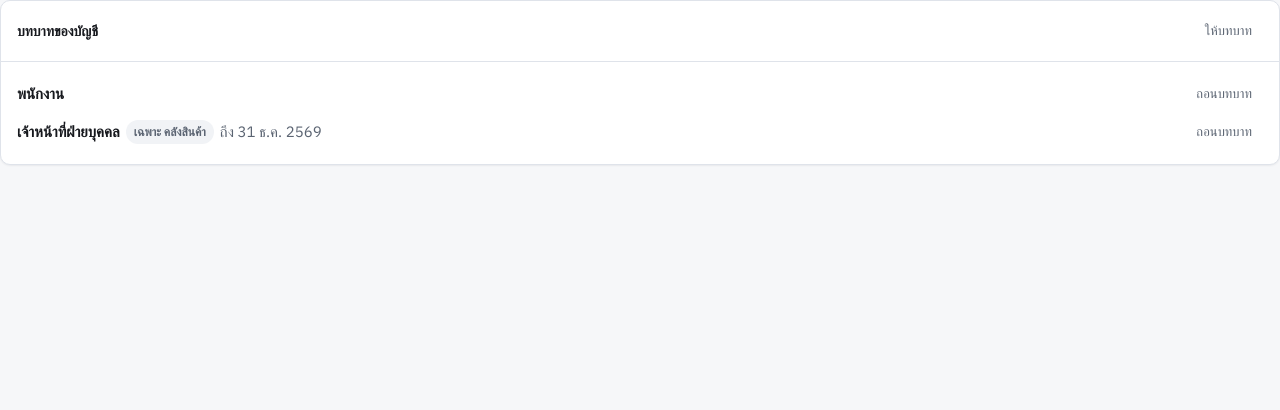
Scenario: Account roles on the employee page (CW-079) › gives payroll officer, warning that it needs two-factor sign-in, and offers only roles the caller holds
This screenshot has width=1280, height=410.
Click the button "ให้บทบาท": (1228, 31) [1194,15,1263,47]
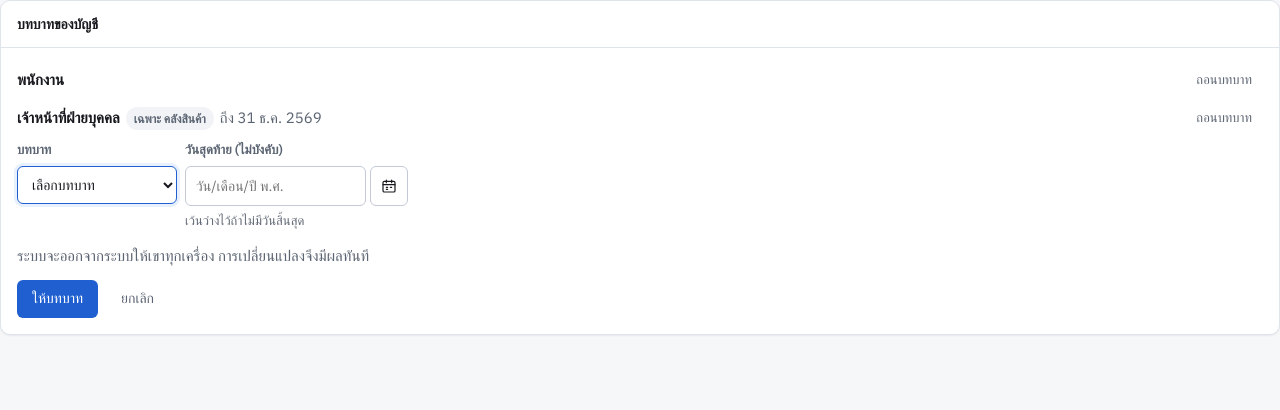
Select "เจ้าหน้าที่เงินเดือน" in the dropdown labelled "บทบาท": (97, 185) [17,166,177,204]
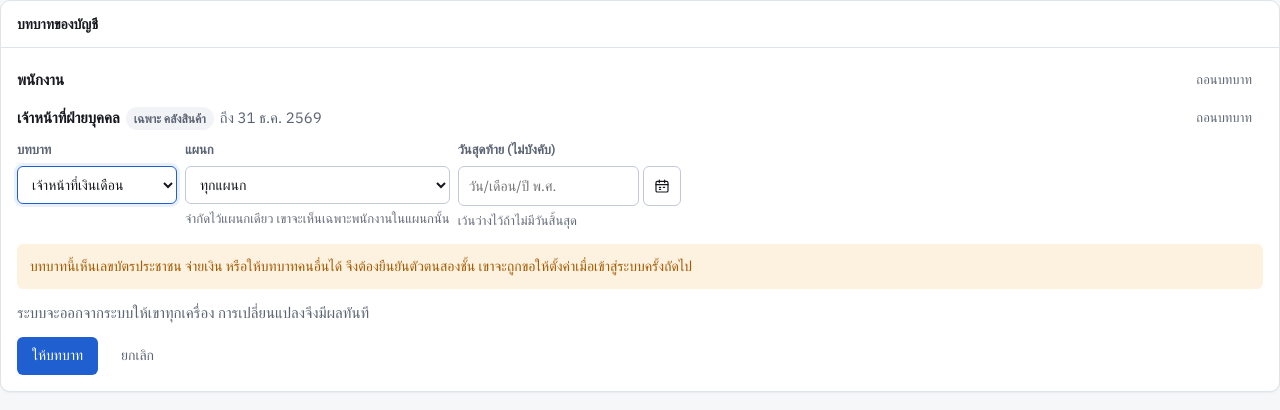
Now the message shows "ต้องยืนยันตัวตนสองชั้น", box [30,257,692,275]
Click the button "ให้บทบาท": (58, 356) [17,337,98,375]
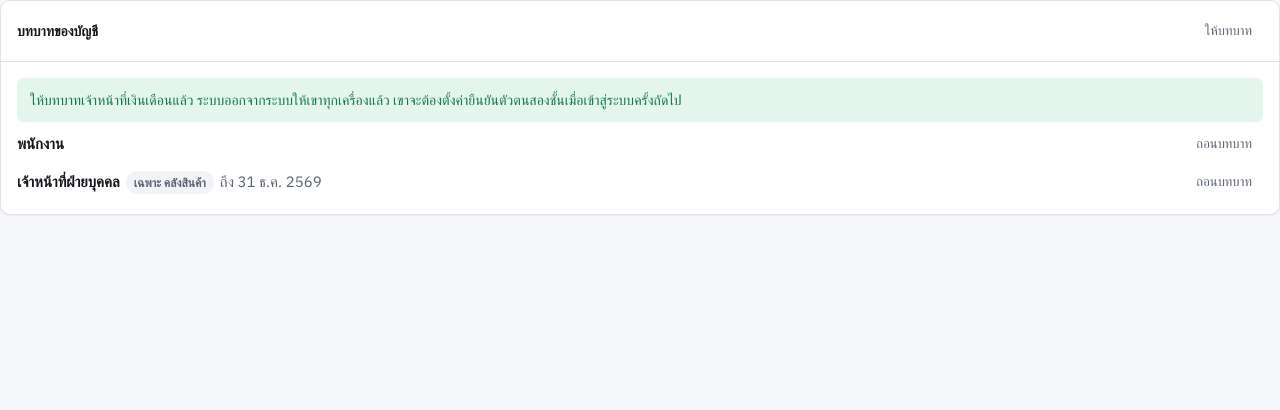
Now the text "ให้บทบาทเจ้าหน้าที่เงินเดือนแล้ว" shows "ระบบออกจากระบบให้เขาทุกเครื่องแล้ว เขาจะต้องตั้งค่ายืนยันตัวตนสองชั้นเมื่อเข้าสู่ระบบครั้งถัดไป", box [30,91,682,109]
